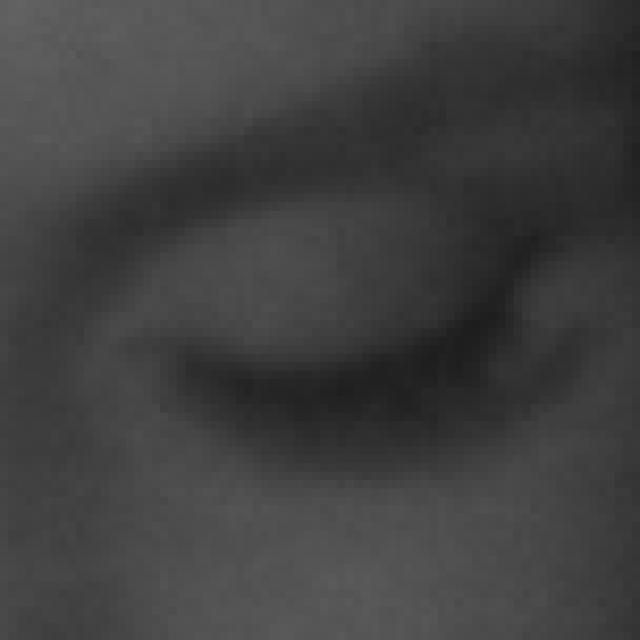Eyeclosed: (173, 198, 569, 549)
